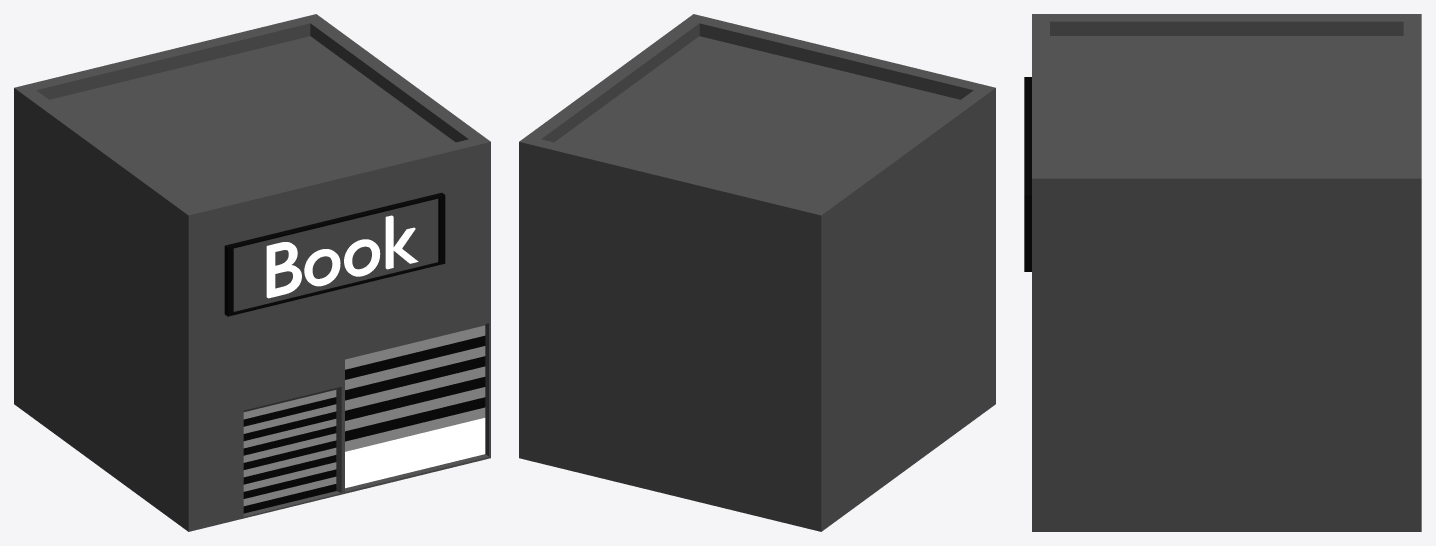
File: BookBas.fbx
3 renders of one model, left to right at view 1: azimuth 30°, elevation 25°; view 2: azimuth 150°, elevation 25°; view 3: azimuth 270°, elevation 25°, orthographic. The views are drawn at different scales.
Visible parts, largest first — view 1: Cube.008; view 2: Cube.008; view 3: Cube.008.
Part boxes in pixels (bbox=[...]): Cube.008: bbox=[14, 14, 490, 531]; Cube.008: bbox=[519, 14, 995, 531]; Cube.008: bbox=[1024, 14, 1421, 531].
Size of the model in its own units: 2000 by 2000 by 2040.
